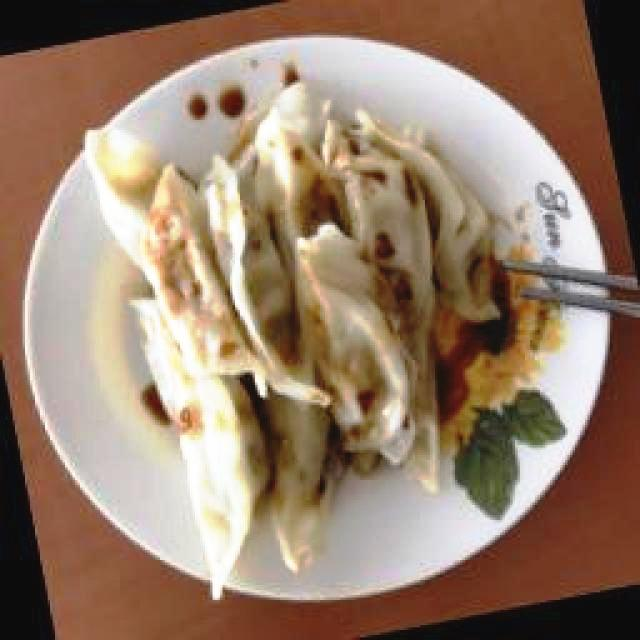fried_dumplings: (86, 86, 498, 598), (132, 297, 267, 598), (199, 159, 331, 409), (291, 223, 410, 464), (145, 165, 267, 395)
